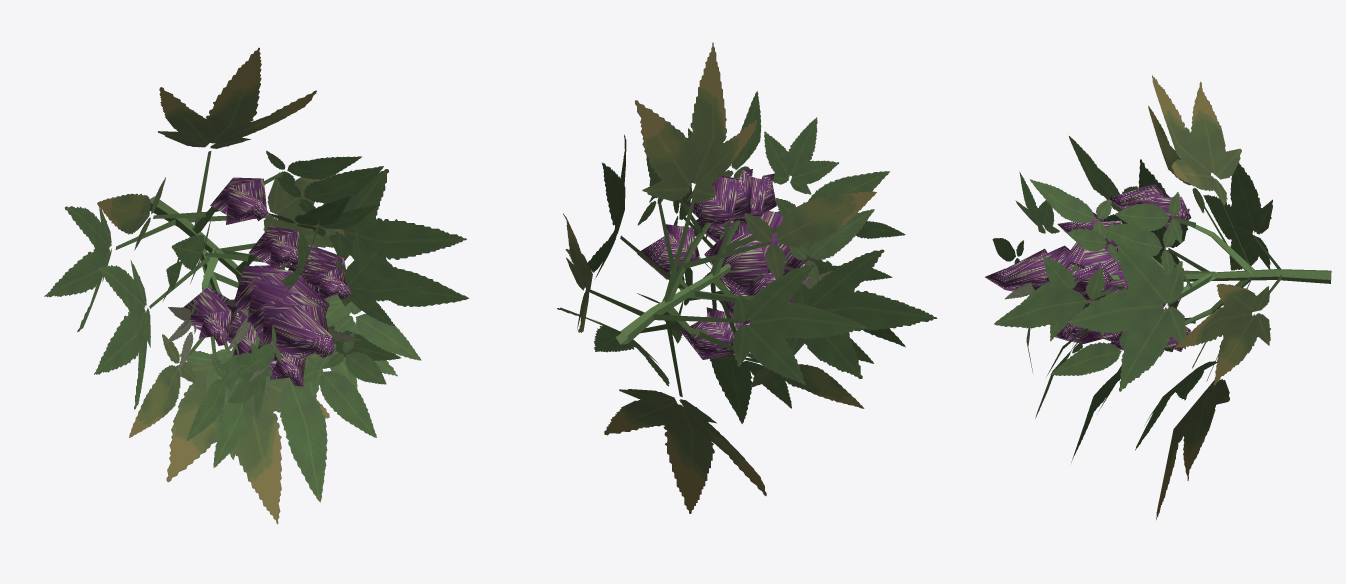
File: p_purple_auto_ripe_c0_cards.obj
3 views of the same model, side by side, from view 1: azimuth 30°, elevation 25°; view 2: azimuth 150°, elevation 25°; view 3: azimuth 270°, elevation 25° (orthographic). The views are drawn at different scales.
Size of the model in its own units: 1.2 by 1.5 by 0.947.
1 material, 1 textured.
